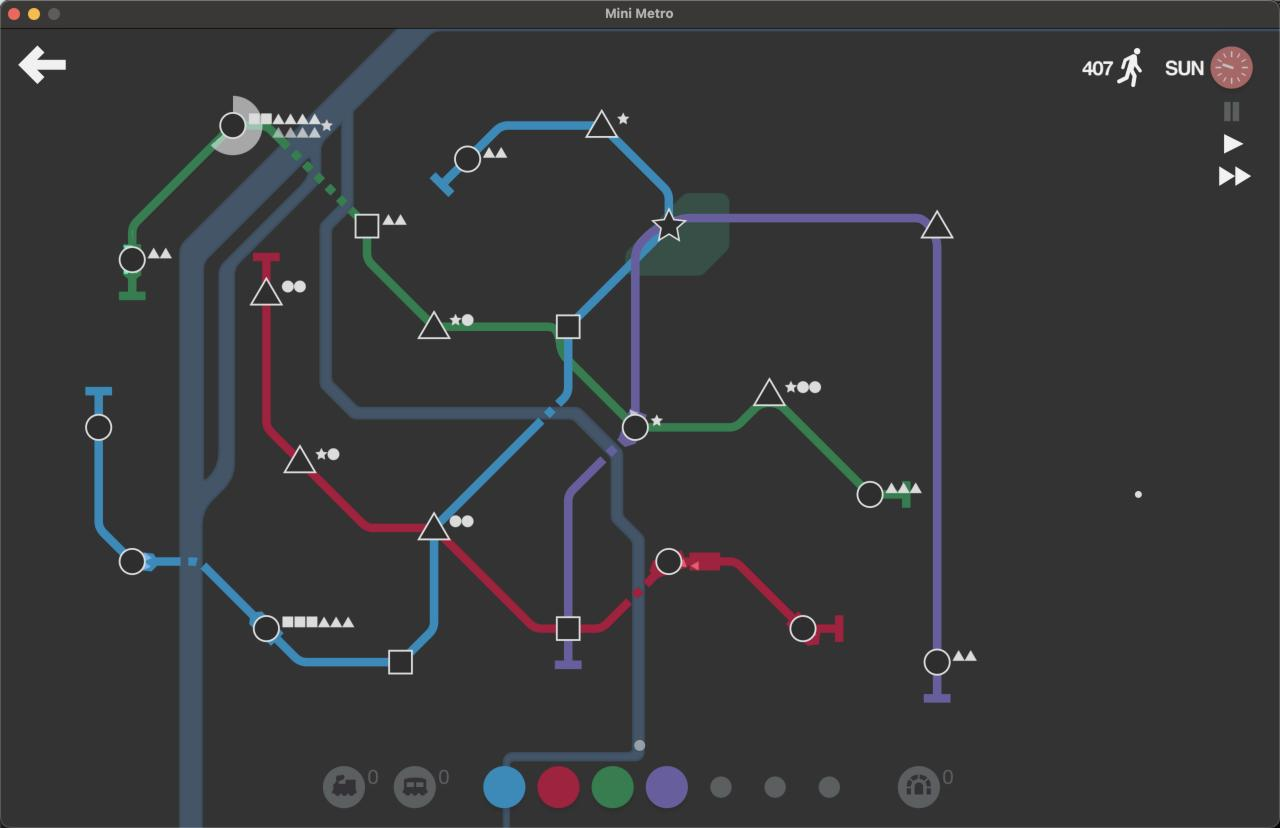CIRCLE: (620, 411, 650, 443), (252, 613, 281, 644), (789, 614, 818, 644), (654, 547, 684, 576), (118, 244, 146, 275), (218, 111, 247, 140), (118, 547, 147, 576), (856, 479, 884, 509), (923, 648, 951, 677), (454, 144, 481, 173), (85, 414, 112, 441)
SQUARE: (555, 615, 581, 642), (555, 313, 582, 339), (387, 648, 413, 675), (353, 213, 379, 239)
STAR: (651, 208, 686, 242)
TRIANGLE: (416, 510, 452, 542), (416, 309, 451, 340), (584, 108, 618, 139), (283, 444, 317, 475), (249, 276, 283, 307), (920, 209, 955, 239), (752, 377, 786, 407)
